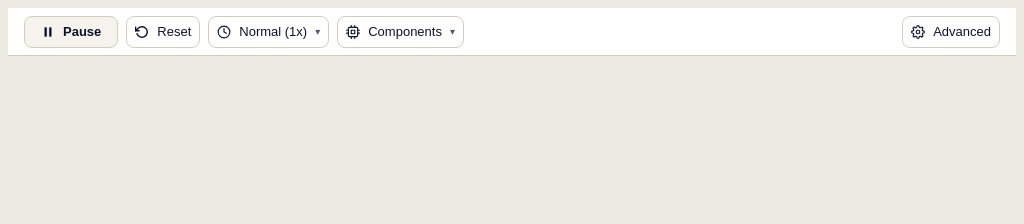
Test: CircuitToolbar (Task 42 / CIRC-5) › opens speed dropdown and changes simulation speed
# Open speed menu
Click the button with test id "circuit-speed-dropdown-btn".
click(269, 32)  # box [208,16,329,48]
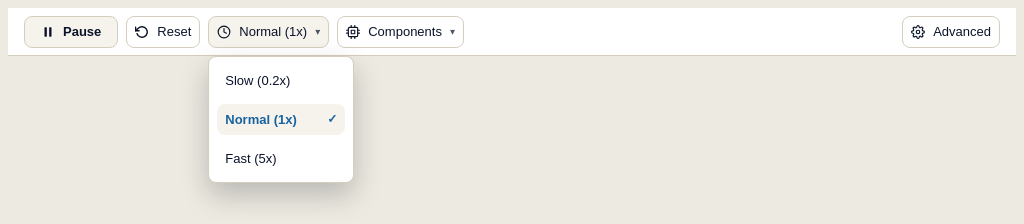
expect the menu with test id "circuit-speed-menu" is shown: met, box [208,56,354,182]
# Select slow
Click the button with test id "circuit-speed-slow-btn".
click(281, 80)  # box [217,64,345,96]
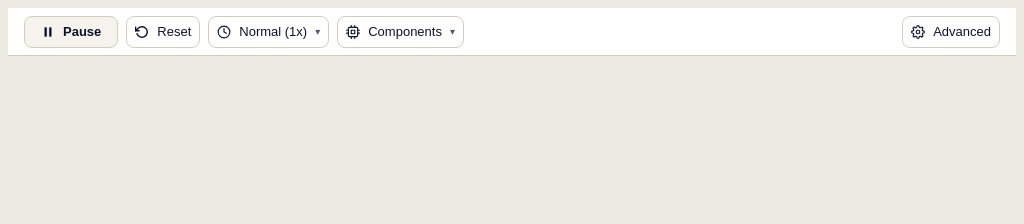
expect the menu with test id "circuit-speed-menu" is gone: met
